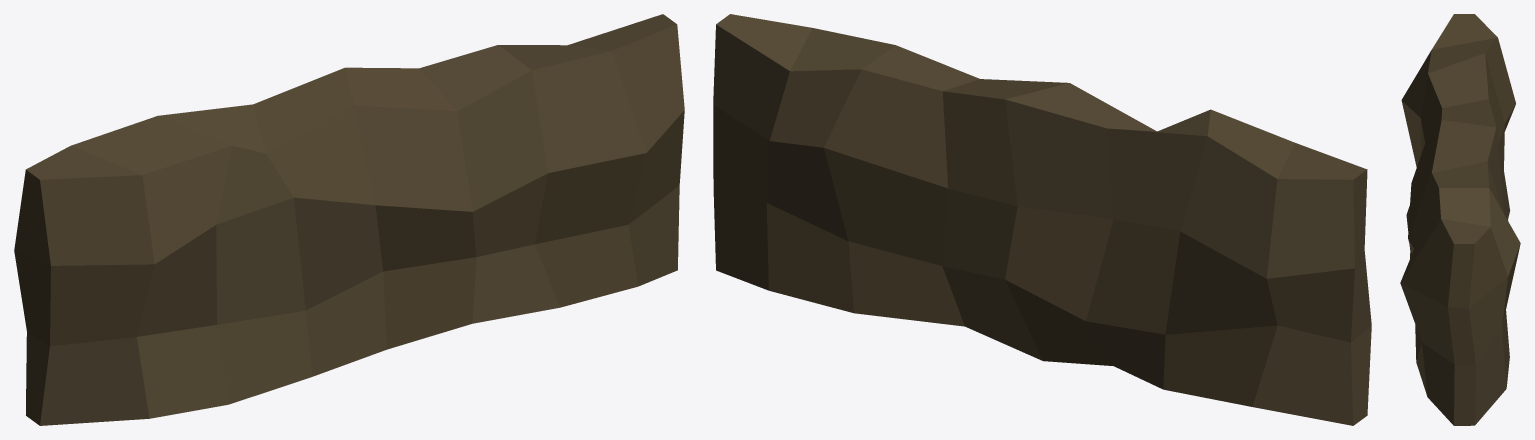
Rendered from SmallWall.2.fbx.
The picture shows the model from 3 angles, left to right: view 1: azimuth 30°, elevation 25°; view 2: azimuth 150°, elevation 25°; view 3: azimuth 270°, elevation 25°; orthographic projection. The views are drawn at different scales.
Parts seen in each view (by area): view 1: Small_Wall.2; view 2: Small_Wall.2; view 3: Small_Wall.2.
Boxes of the visible parts, x1,y1,x2,y2 form: Small_Wall.2: (14,14,684,425); Small_Wall.2: (713,14,1371,425); Small_Wall.2: (1400,14,1520,425).
Bounding box in the file's own units: 1327 × 508 × 288.
